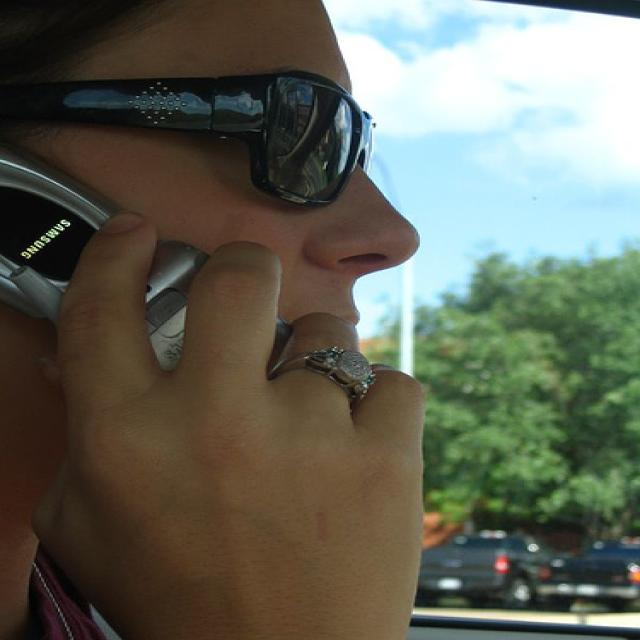Vehicle: (412, 521, 575, 609), (520, 529, 640, 615), (531, 535, 640, 612)
